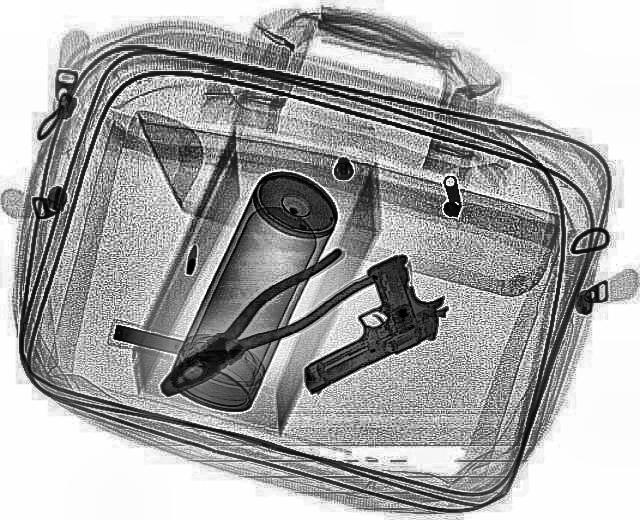Gun: (249, 249, 467, 395)
Pliers: (136, 239, 378, 413)
